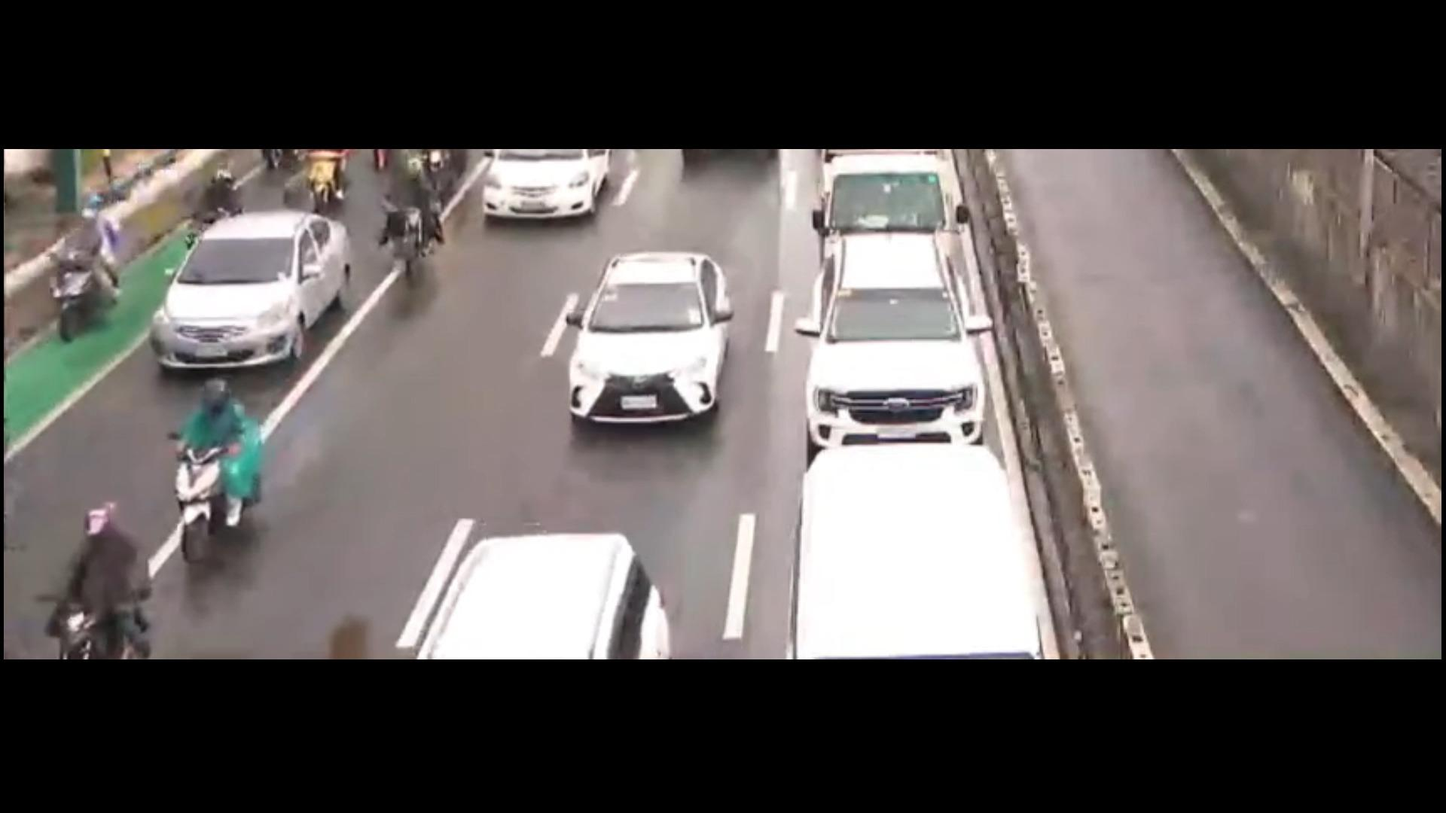Motorcycle: (151, 371, 279, 571), (45, 496, 179, 660), (37, 181, 136, 352), (365, 149, 457, 293), (189, 163, 250, 240), (298, 148, 347, 205)
SUV: (790, 237, 1000, 455), (414, 526, 702, 658)
Sedan: (549, 235, 761, 467), (150, 195, 375, 387), (467, 146, 640, 242)
Truck: (802, 146, 978, 250)
Van: (775, 419, 1061, 661)
